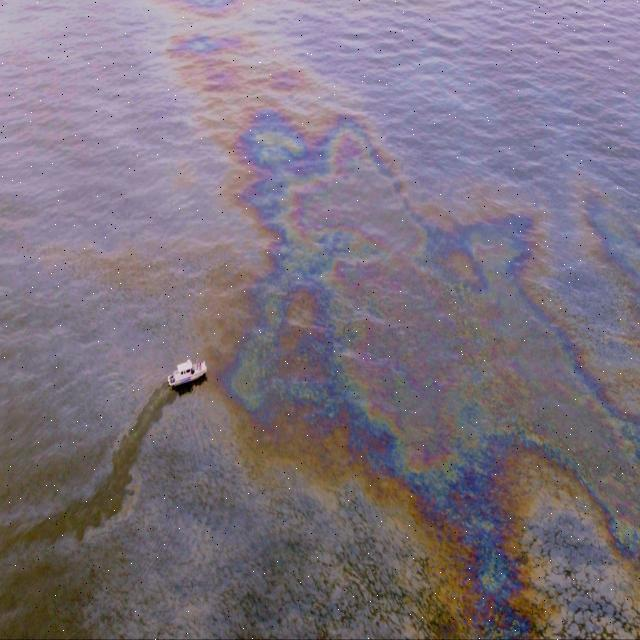rainbow: (225, 109, 640, 635)
truecolor: (0, 382, 175, 554)
